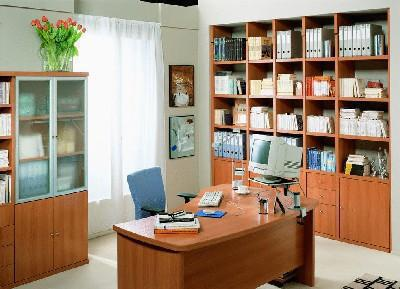Ventana: (76, 33, 166, 199)
